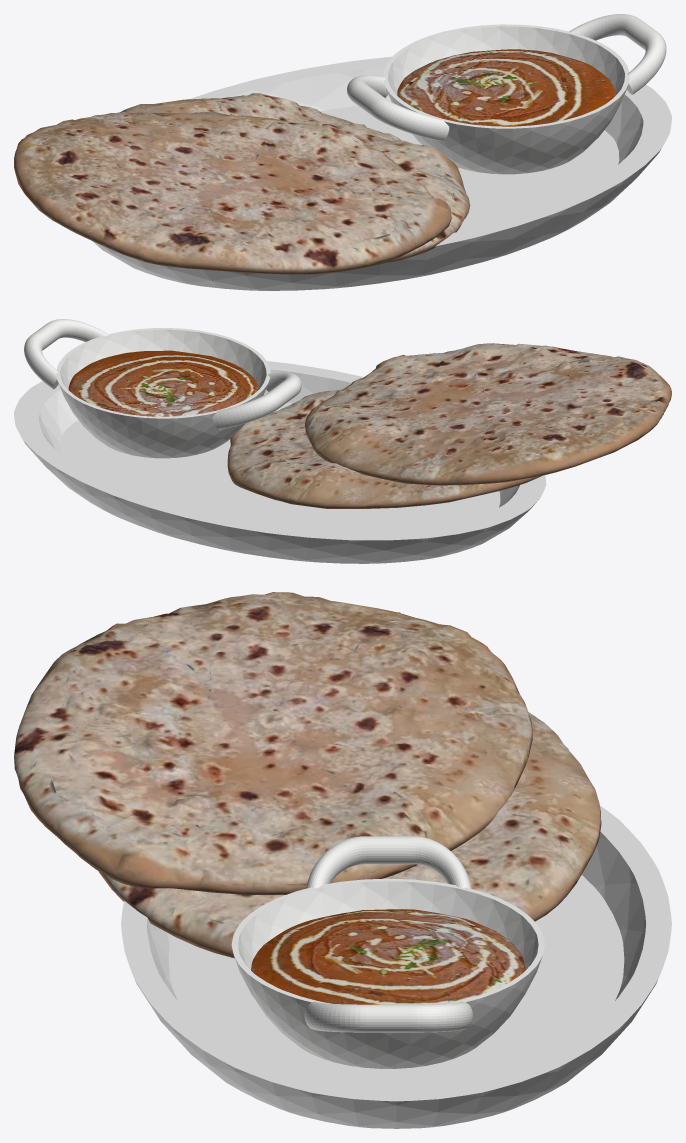
File: thali.glb
3 renders of one model, top to bottom at view 1: azimuth 30°, elevation 25°; view 2: azimuth 150°, elevation 25°; view 3: azimuth 270°, elevation 25°, orthographic. The views are drawn at different scales.
Visible parts, largest first — view 1: Object_4, Object_8, Object_12, Object_10; view 2: Object_4, Object_8, Object_12, Object_10; view 3: Object_4, Object_8, Object_12, Object_10.
Part boxes in pixels (x1,y1,x2,y2): Object_4: (14, 93, 470, 274); Object_8: (92, 56, 671, 290); Object_12: (347, 14, 666, 174); Object_10: (397, 49, 615, 126); Object_4: (227, 343, 671, 508); Object_8: (14, 361, 546, 563); Object_12: (24, 319, 301, 458); Object_10: (68, 350, 258, 416); Object_4: (14, 592, 601, 958); Object_8: (121, 805, 671, 1128); Object_12: (231, 836, 544, 1068); Object_10: (251, 909, 525, 1004).
Size of the model in its own units: 0.1243 by 0.0228 by 0.0847.
4 materials, 2 textured.
